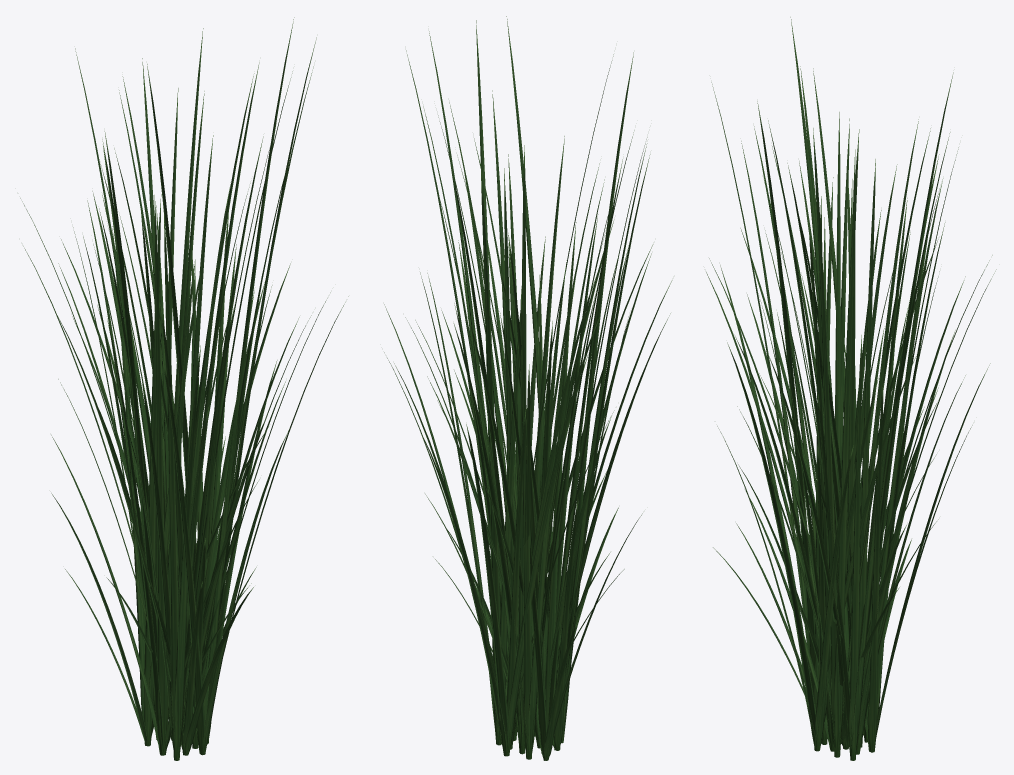
Rendered from finegrassb.glb.
3 renders of one model, left to right at view 1: azimuth 30°, elevation 25°; view 2: azimuth 150°, elevation 25°; view 3: azimuth 270°, elevation 25°, orthographic. The views are drawn at different scales.
Visible parts, largest first — view 1: Foliage; view 2: Foliage; view 3: Foliage.
Boxes of the visible parts, <box> form: Foliage: <box>20,17,348,760</box>; Foliage: <box>384,16,672,760</box>; Foliage: <box>706,17,996,760</box>.
Size of the model in its own units: 0.2803 by 0.72 by 0.2752.
1 material, 1 textured.
